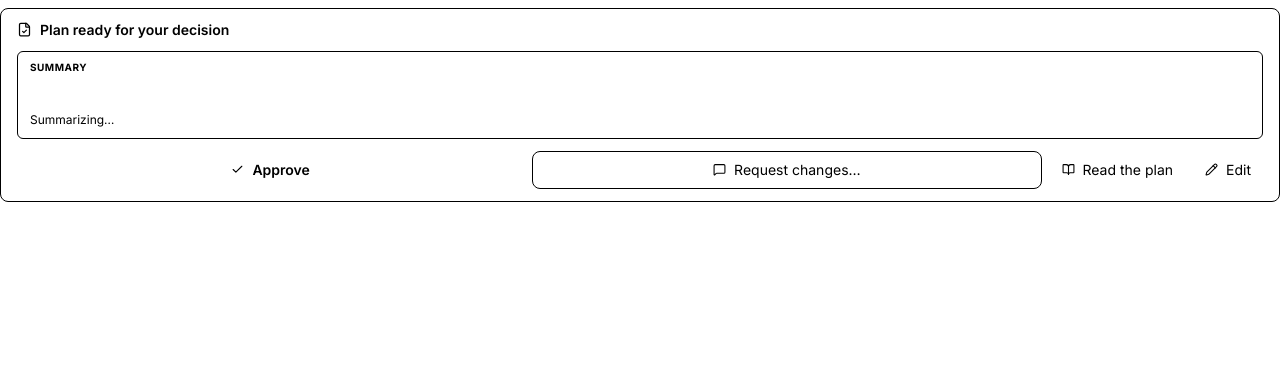
ExitPlanMode asks for a decision › closes the field with Escape, keeps the text, and does not stop the waiting turn
The image size is (1280, 371).
Click the button "Request changes…" at (787, 170), box x1=532 y1=150 x2=1042 y2=188
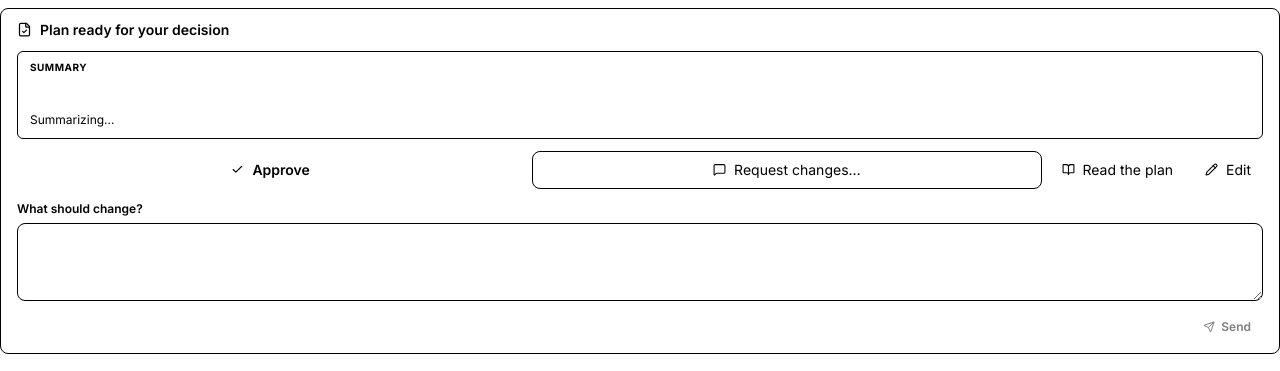
Type "Hourly" into the text box labelled "What should change?" at (640, 262), box x1=17 y1=222 x2=1263 y2=300
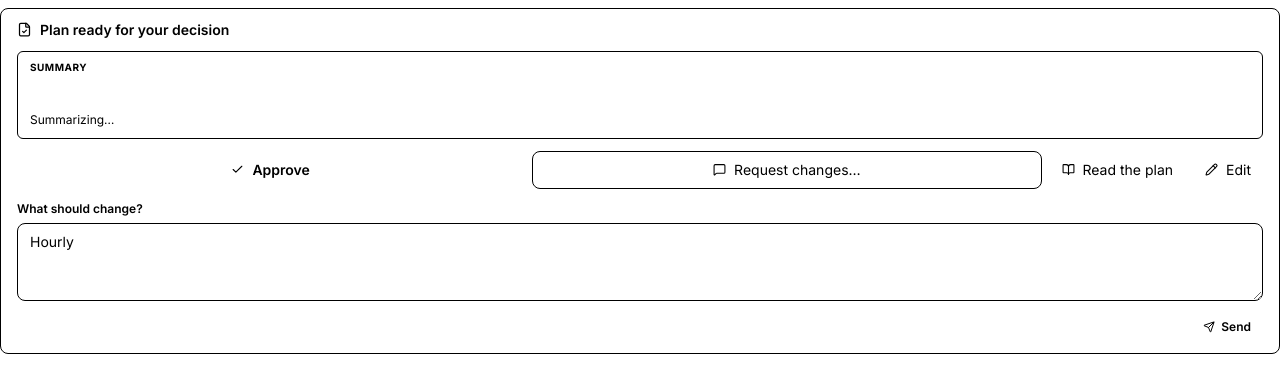
Press Escape
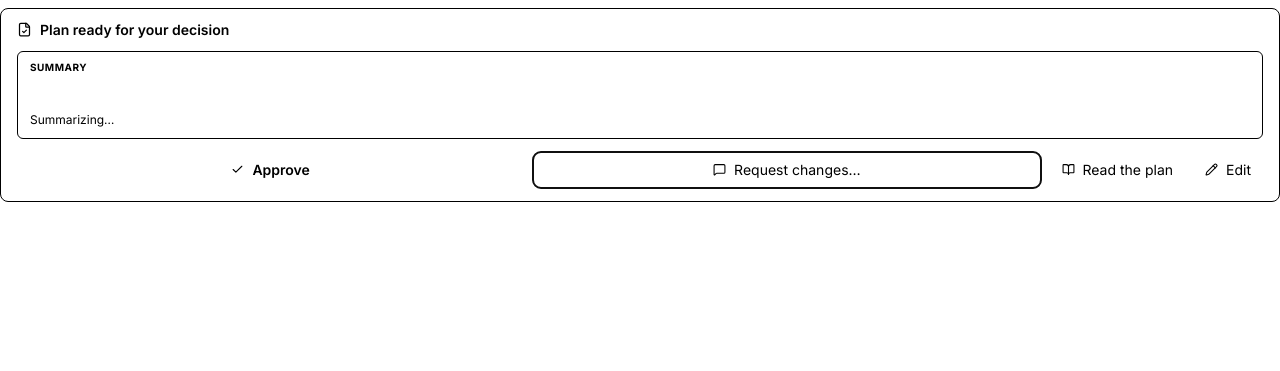
Click the button "Request changes…" at (787, 170), box x1=532 y1=150 x2=1042 y2=188
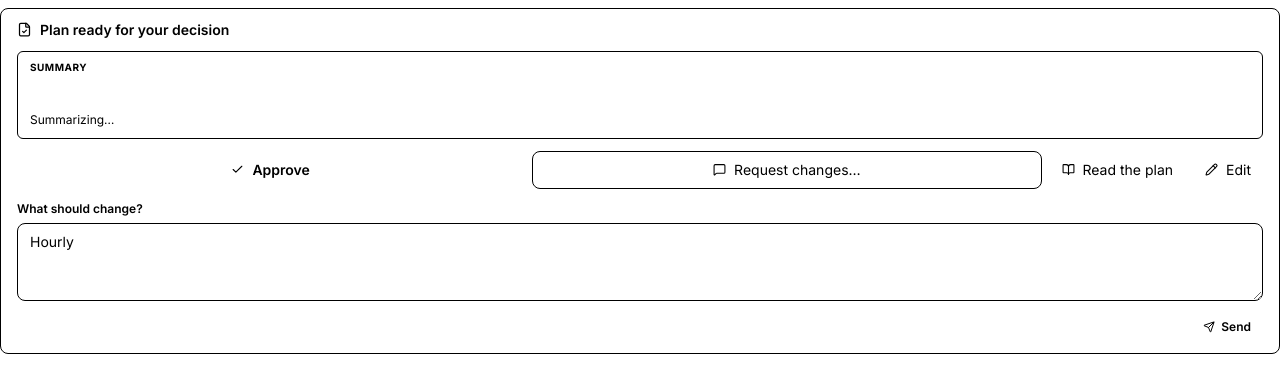
Expected: the text box labelled "What should change?" holds "Hourly", x1=17 y1=222 x2=1263 y2=300
